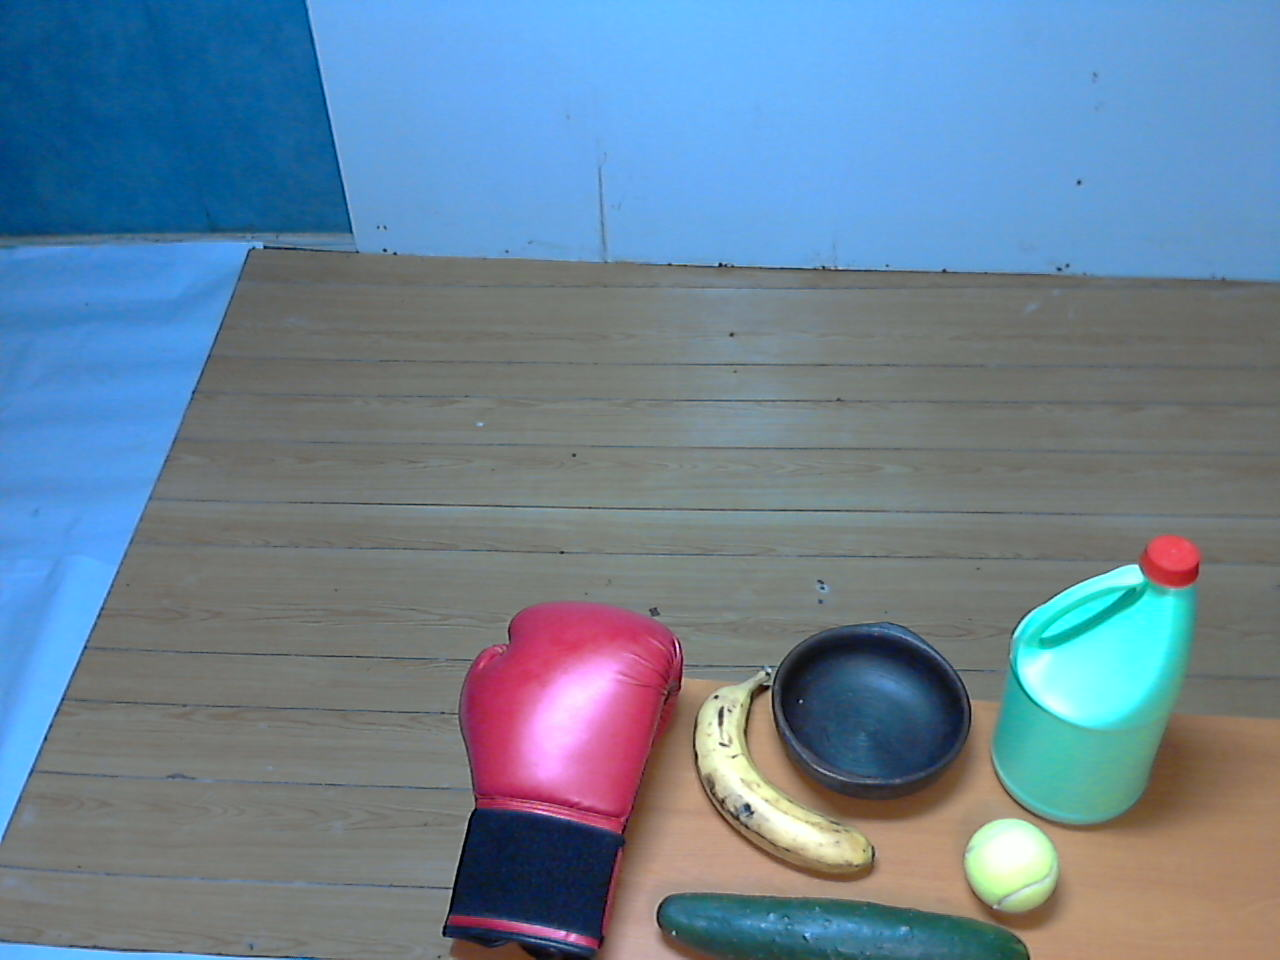cloroplano: (983, 517, 1208, 831)
greda: (776, 620, 976, 810)
guante: (441, 589, 696, 960)
pelota: (961, 814, 1064, 922)
pepino: (646, 878, 1038, 960)
platano: (682, 657, 888, 889)
